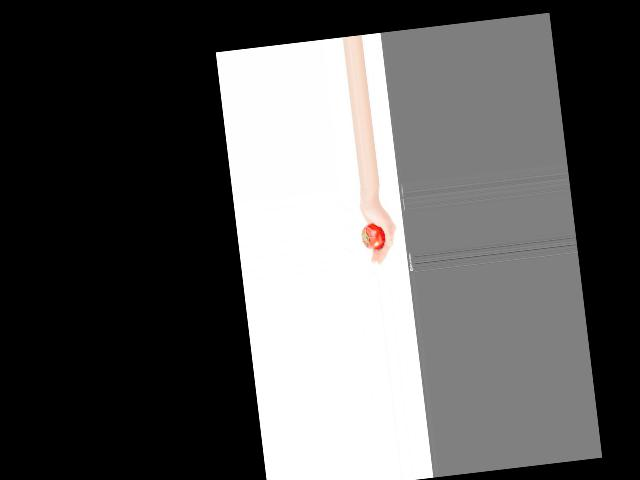tomato: (360, 221, 386, 249)
